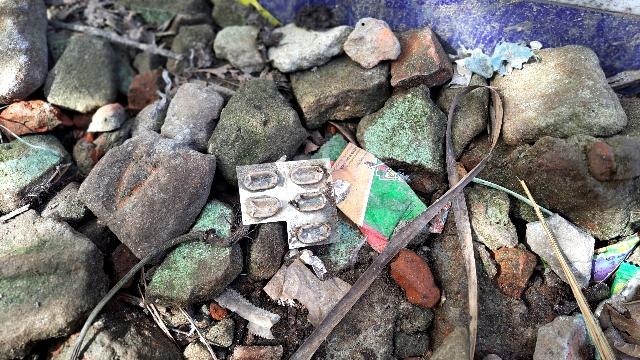medicine: (230, 156, 347, 250)
